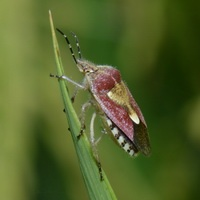insect: (50, 28, 149, 156)
